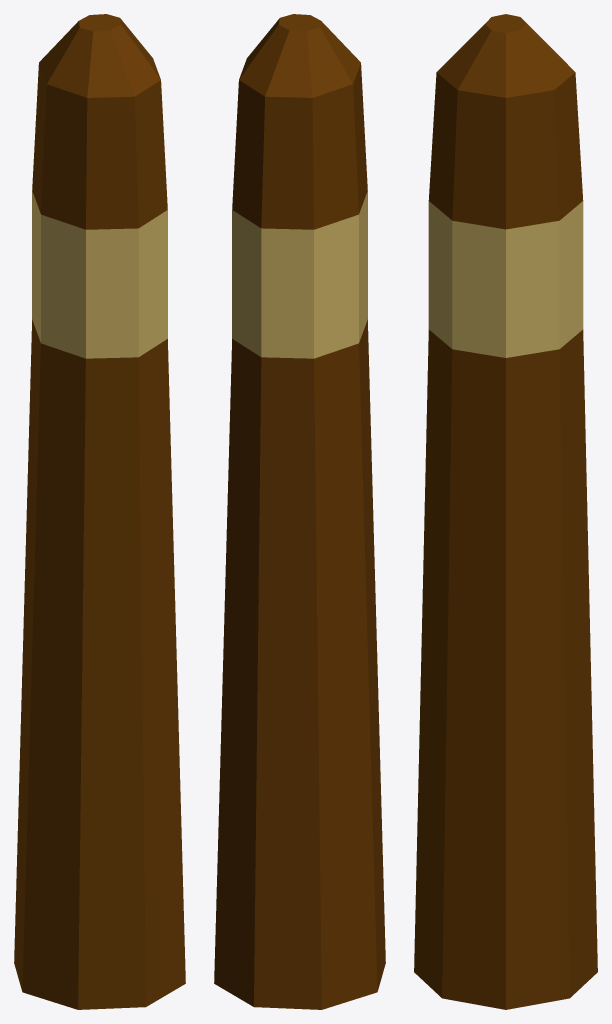
Rendered from Cigar.fbx.
3 views of the same model, side by side, from view 1: azimuth 30°, elevation 25°; view 2: azimuth 150°, elevation 25°; view 3: azimuth 270°, elevation 25° (orthographic).
Visible parts, largest first — view 1: Cigar; view 2: Cigar; view 3: Cigar.
Boxes of the visible parts, left/top/right/bottom form: Cigar: left=14, top=14, right=185, bottom=1009; Cigar: left=214, top=14, right=385, bottom=1009; Cigar: left=414, top=14, right=597, bottom=1009.
Bounding box in the file's own units: 50.39 × 295 × 51.84.
